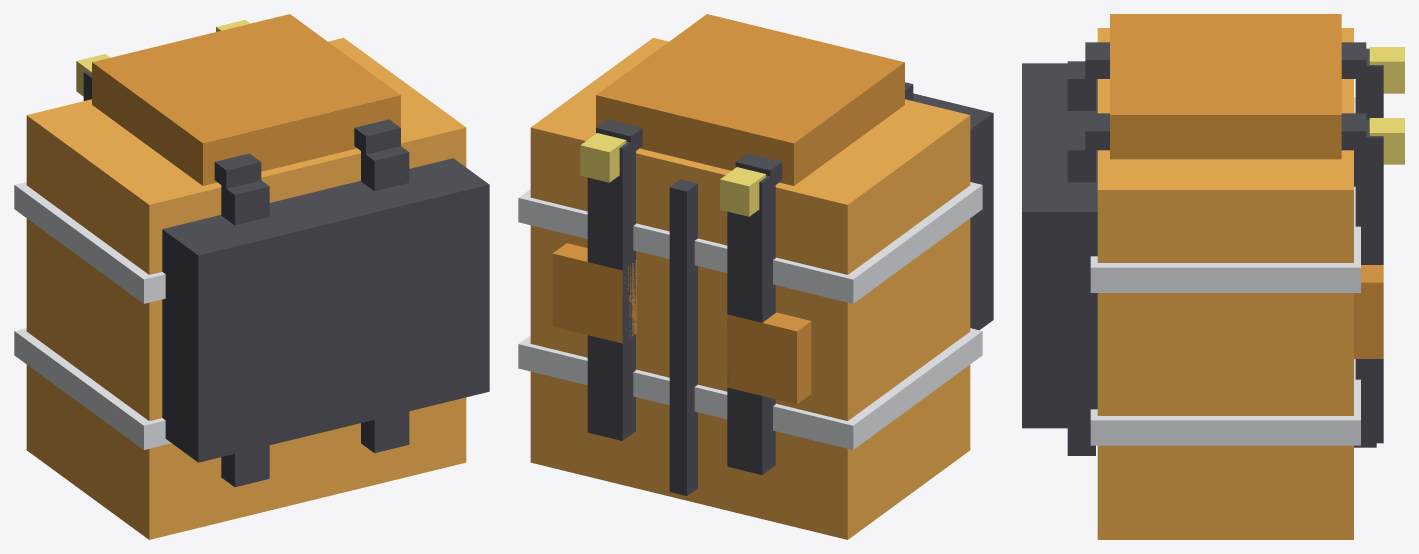
File: mecanico_espacial_tronco.glb
3 views of the same model, side by side, from view 1: azimuth 30°, elevation 25°; view 2: azimuth 150°, elevation 25°; view 3: azimuth 270°, elevation 25° (orthographic). The views are drawn at different scales.
Visible parts, largest first — view 1: mecanico_espacial_tronco; view 2: mecanico_espacial_tronco; view 3: mecanico_espacial_tronco.
Boxes of the visible parts, x1=… form: mecanico_espacial_tronco: x1=14, y1=14, x2=489, y2=539; mecanico_espacial_tronco: x1=518, y1=14, x2=993, y2=539; mecanico_espacial_tronco: x1=1022, y1=14, x2=1404, y2=539.
Size of the model in its own units: 0.575 by 0.62 by 0.545.
